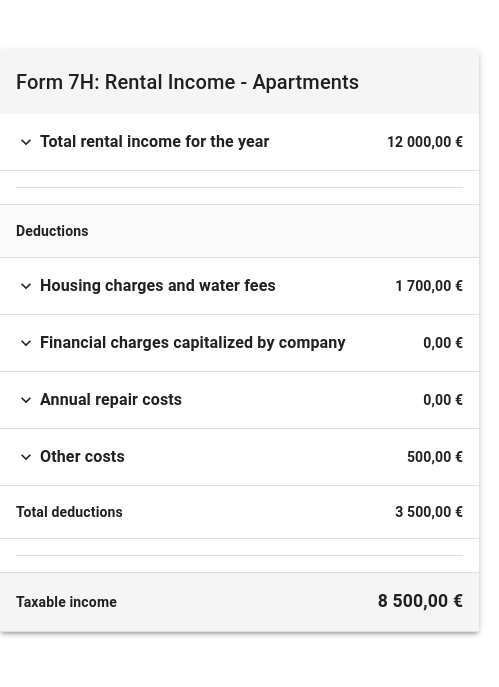
Test case: TaxBreakdown › shows expense type subtotals when expanding a row
The width and height of the screenshot is (499, 687).
Check: the text "Housing company charge" is not shown
Click to expand "Housing charges and water fees"
Click the text "Housing charges and water fees": click(158, 286) top-left (40, 274), bottom-right (276, 298)
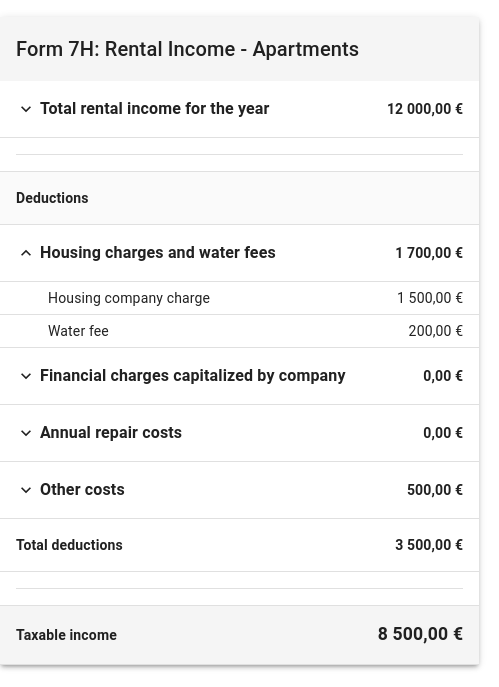
Check: the text "Housing company charge" is shown, box top-left (0, 282), bottom-right (334, 315)
Check: the text "Water fee" is shown, box top-left (0, 315), bottom-right (334, 348)
